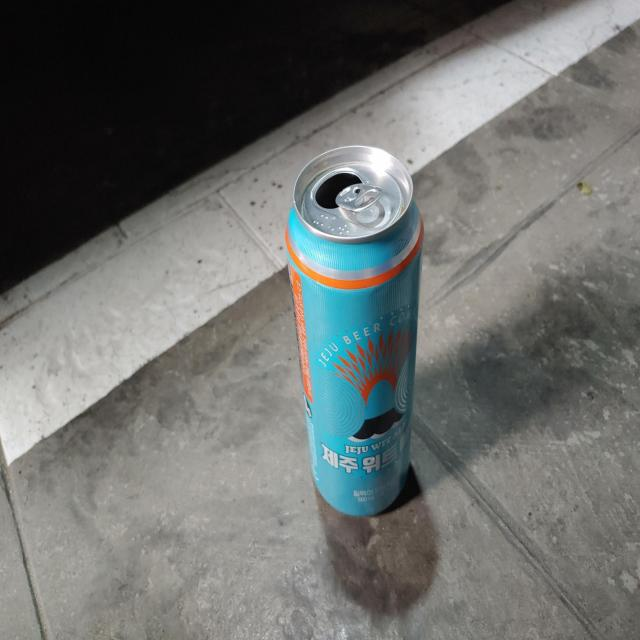can: (286, 145, 424, 516)
